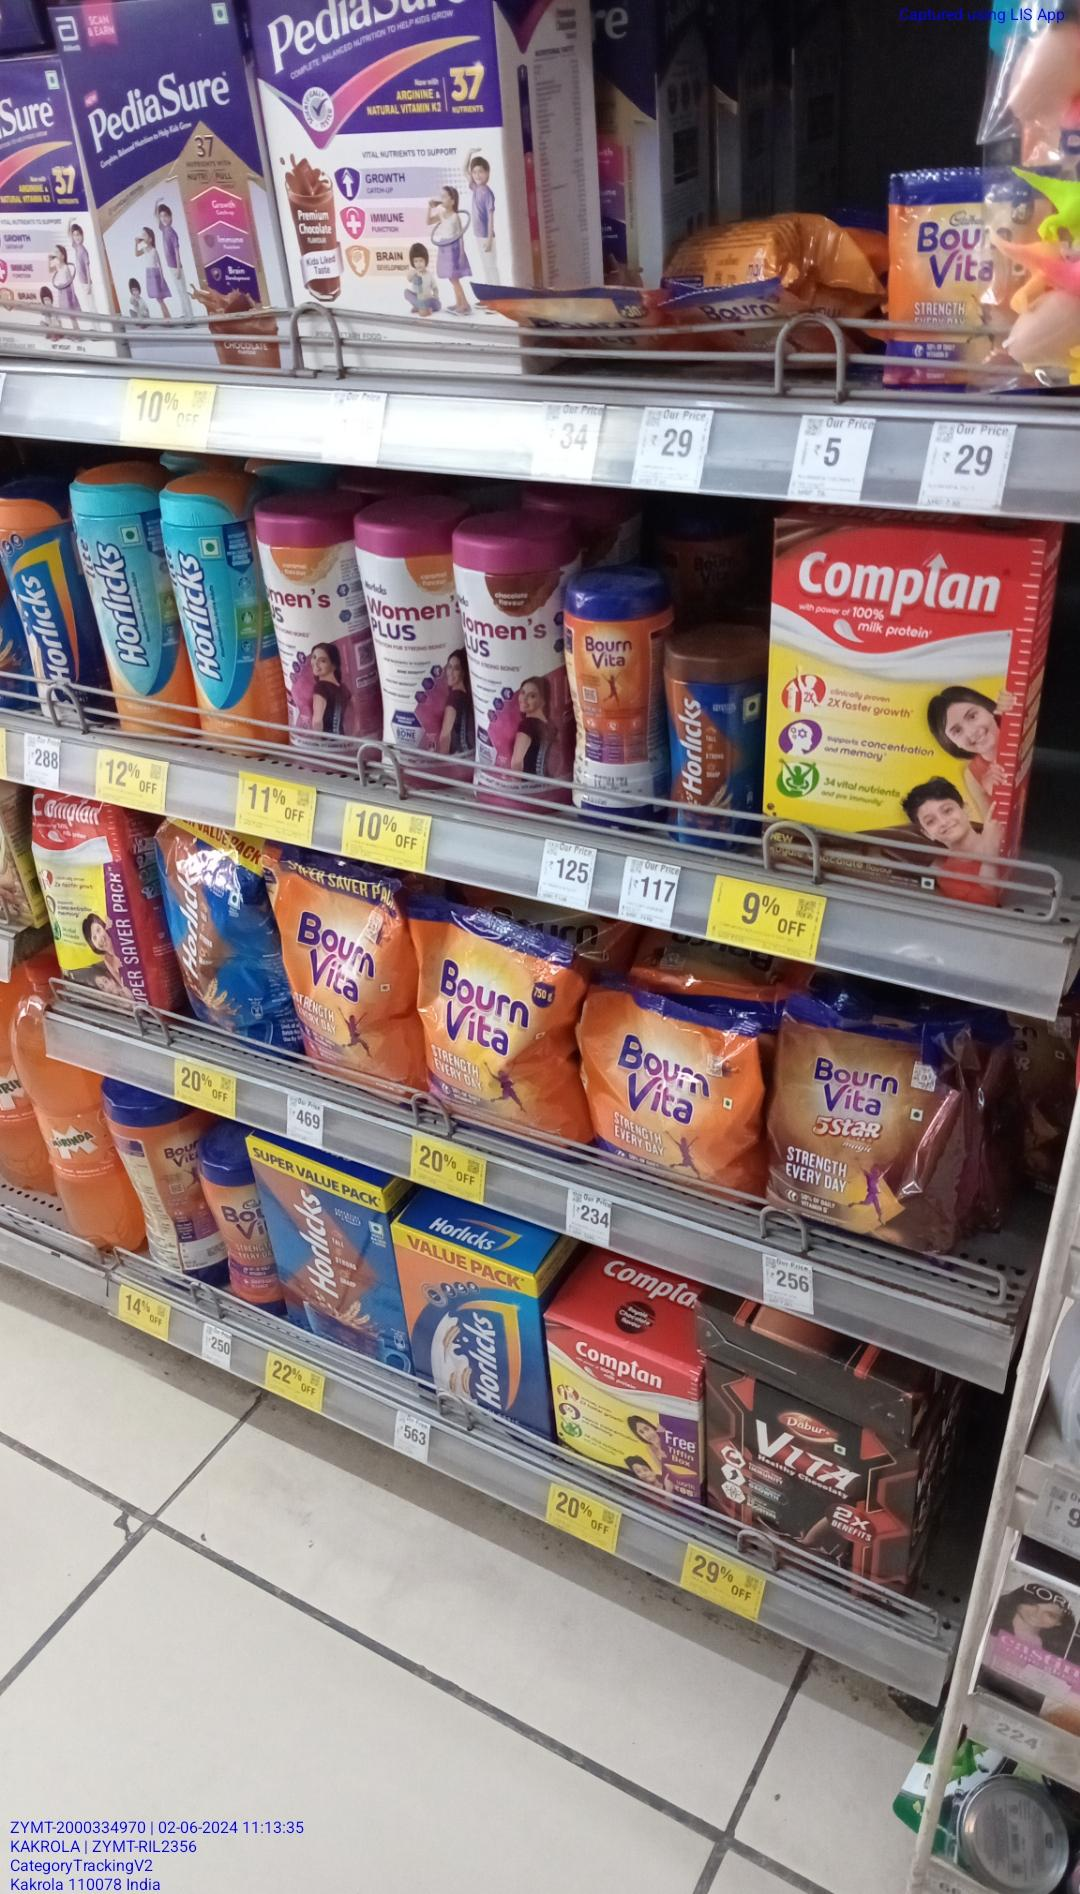BOURN_VITA_FIVE_STAR_MAGIC_500_G_POUCH: (772, 995, 954, 1245)
HORLICKS_LITE_REGULAR_MALT_500_GM_JAR: (167, 479, 275, 762), (73, 467, 160, 749)
